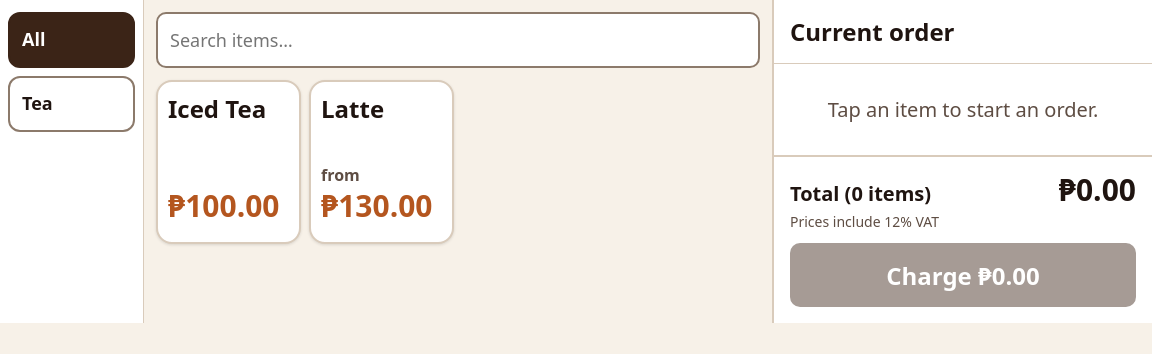
PosPage › adds a simple item straight to the cart and merges repeated taps into one line
This screenshot has width=1152, height=354.
Click the button "Iced Tea ₱100.00" at (228, 162), box left=156, top=80, right=301, bottom=244
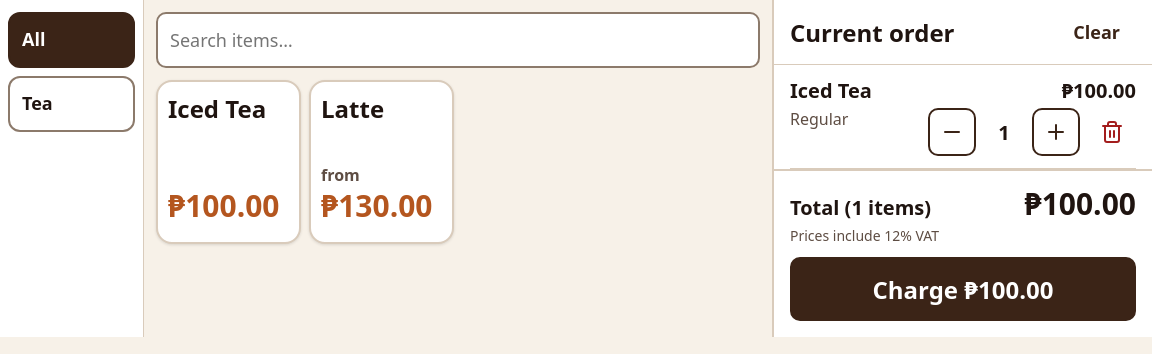
Click the button "Iced Tea ₱100.00" at (228, 162), box left=156, top=80, right=301, bottom=244
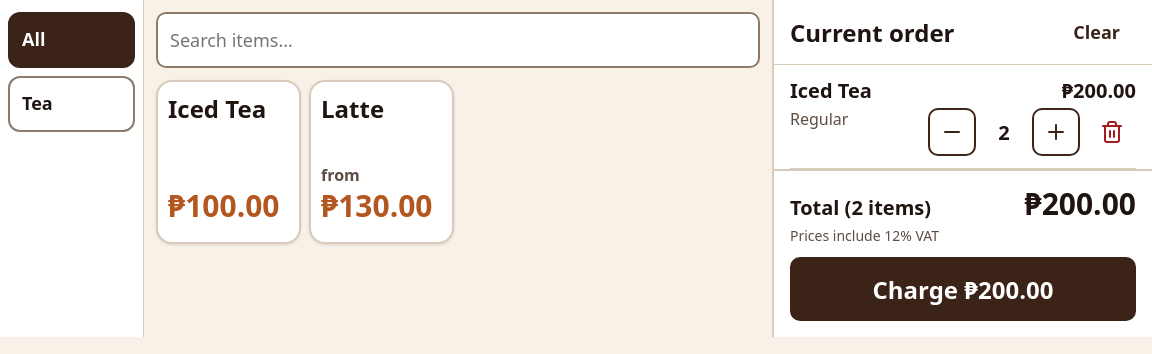
Now the number of list items is 1, box left=790, top=65, right=1136, bottom=169
Now the text "2" is shown, box left=998, top=118, right=1010, bottom=146
Now the text "₱200.00" next to "items)" is shown, box left=1024, top=183, right=1136, bottom=224
